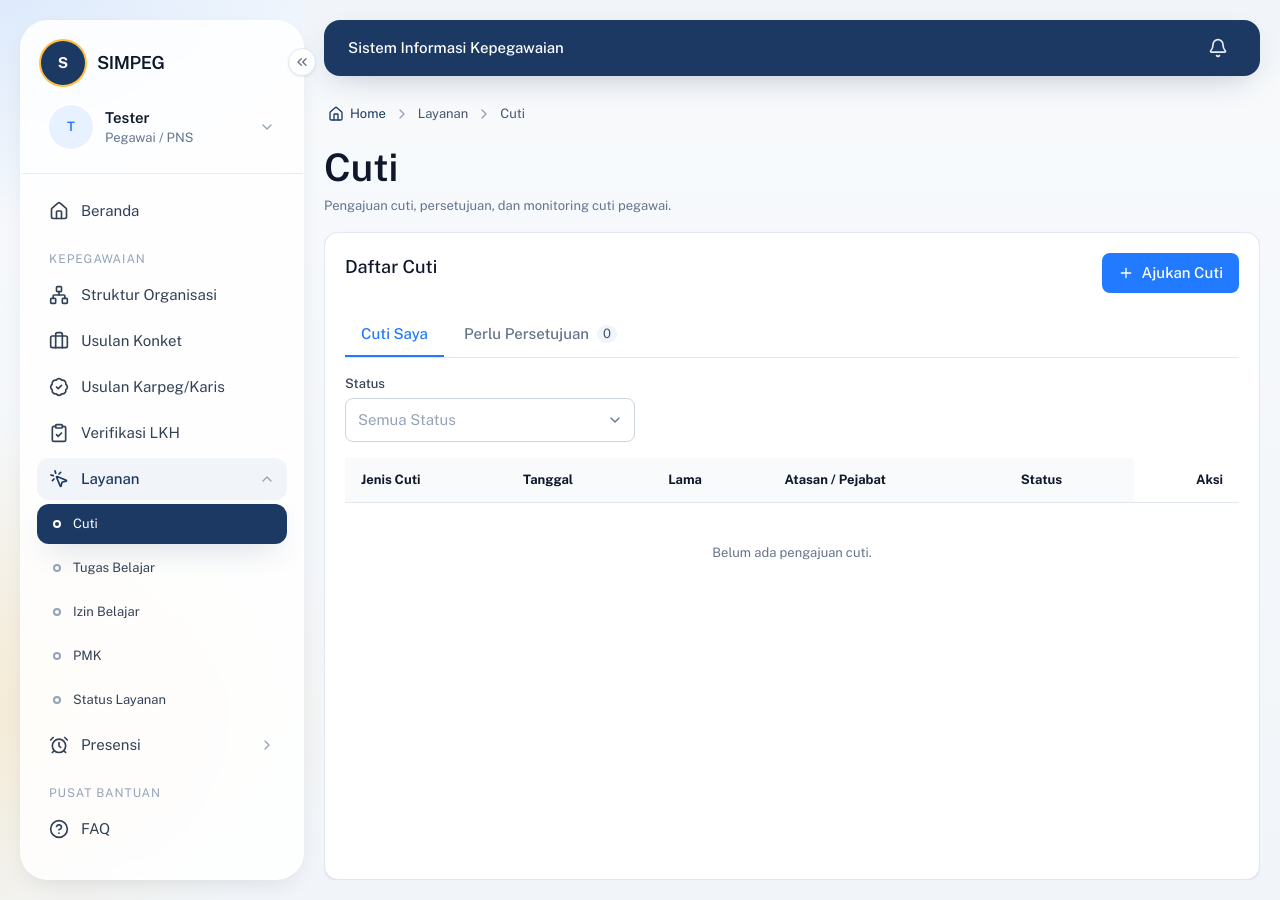
CutiPage — form pengajuan › tombol Ajukan Cuti hanya bila can_create dari server; membuka form
Click the button with test id "cuti-tambah": [1170, 273] box [1102,253,1239,293]
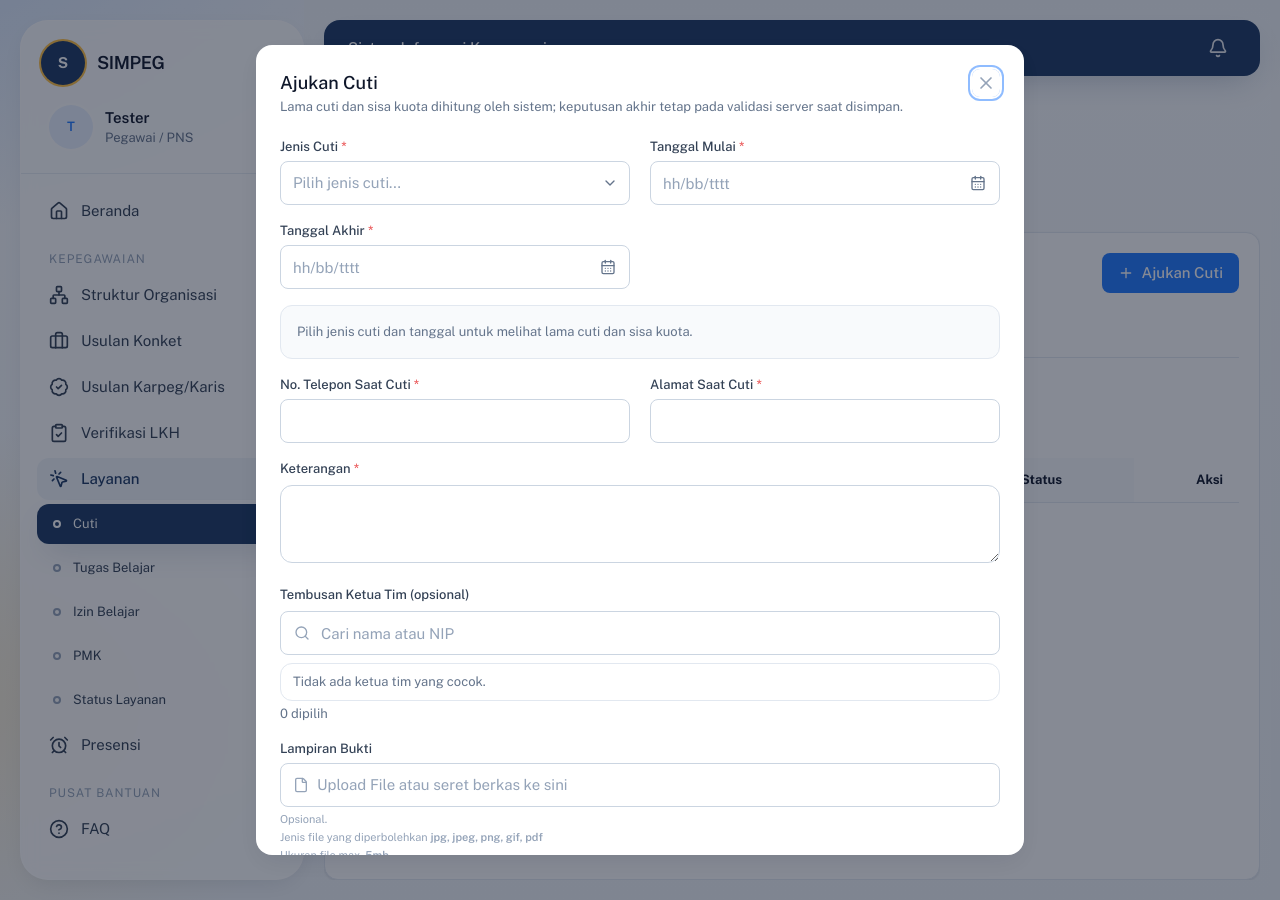
Expected: the dialog with test id "cuti-form-dialog" shows "Ajukan Cuti", [280,72,378,93]
